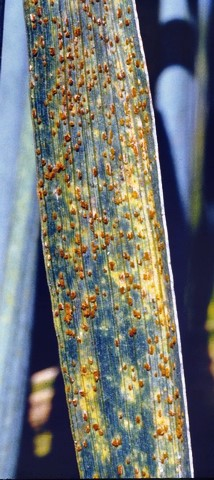Leaf Rust: (23, 15, 197, 478)
